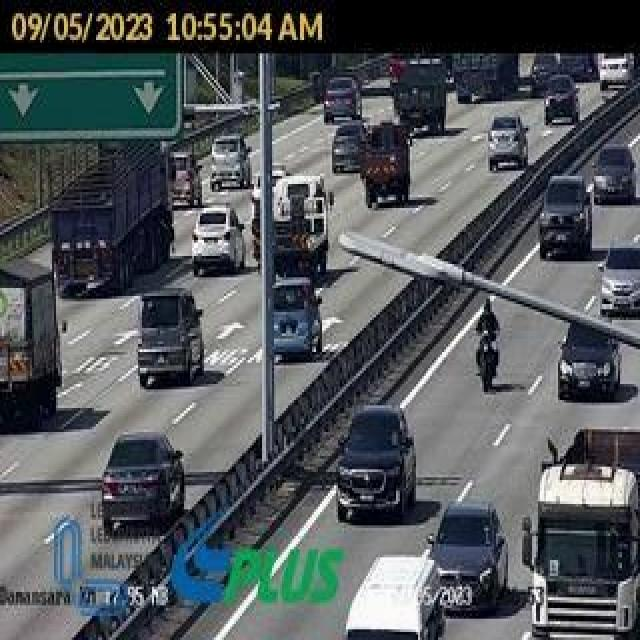Car: (334, 404, 419, 517), (426, 500, 508, 615), (344, 553, 445, 639), (253, 170, 330, 280), (101, 432, 184, 534), (135, 288, 203, 387), (557, 319, 621, 400), (270, 276, 324, 362), (390, 56, 449, 134), (360, 120, 412, 207), (540, 175, 593, 259), (190, 204, 245, 276), (452, 53, 518, 104), (598, 237, 640, 315), (591, 145, 638, 204), (209, 133, 252, 190), (487, 114, 530, 170), (169, 151, 203, 209), (543, 75, 581, 125), (331, 122, 368, 173), (323, 75, 361, 124), (250, 166, 290, 207), (529, 53, 562, 95), (598, 53, 634, 91), (558, 53, 594, 83)
Cycle: (475, 296, 500, 390)
Truck: (522, 435, 639, 639), (50, 140, 171, 285), (0, 258, 66, 418)
